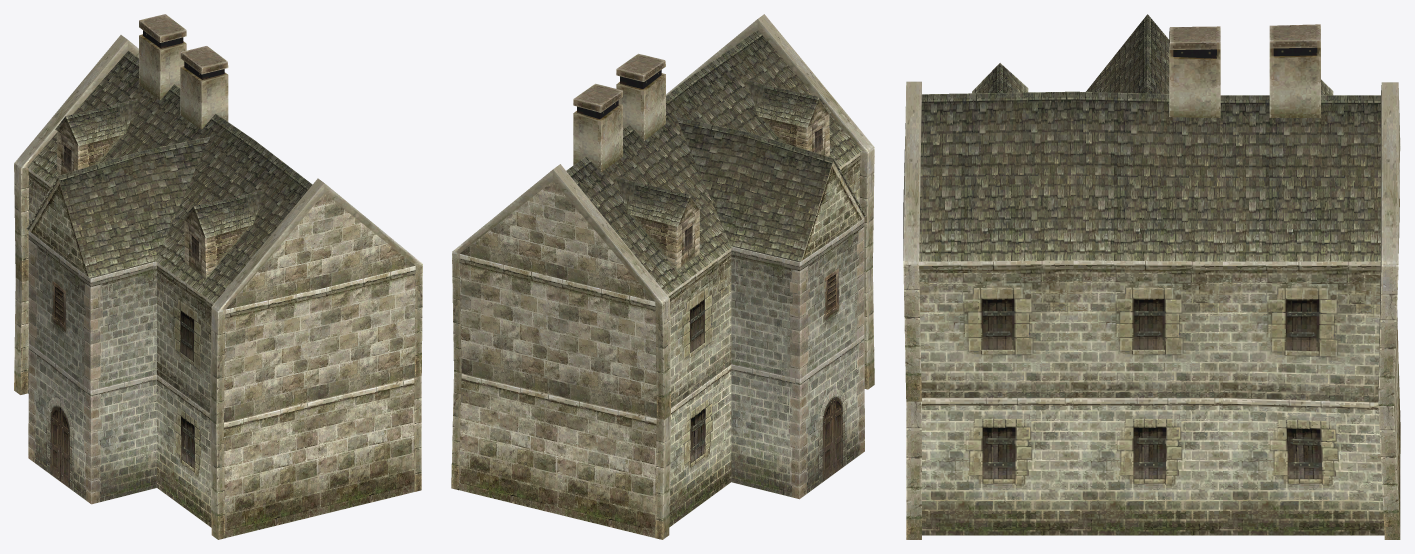
File: OZ_09_sn_T03blgd02A.glb
3 renders of one model, left to right at view 1: azimuth 30°, elevation 25°; view 2: azimuth 150°, elevation 25°; view 3: azimuth 270°, elevation 25°, orthographic. The views are drawn at different scales.
Visible parts, largest first — view 1: OM_09_sn_T03blgd02A; view 2: OM_09_sn_T03blgd02A; view 3: OM_09_sn_T03blgd02A.
Boxes of the visible parts, left/top/right/bottom form: OM_09_sn_T03blgd02A: left=14, top=14, right=422, bottom=539; OM_09_sn_T03blgd02A: left=451, top=14, right=874, bottom=539; OM_09_sn_T03blgd02A: left=903, top=14, right=1400, bottom=539.
Bounding box in the file's own units: 11.68 × 15.7 × 15.73.
5 materials, 5 textured.
